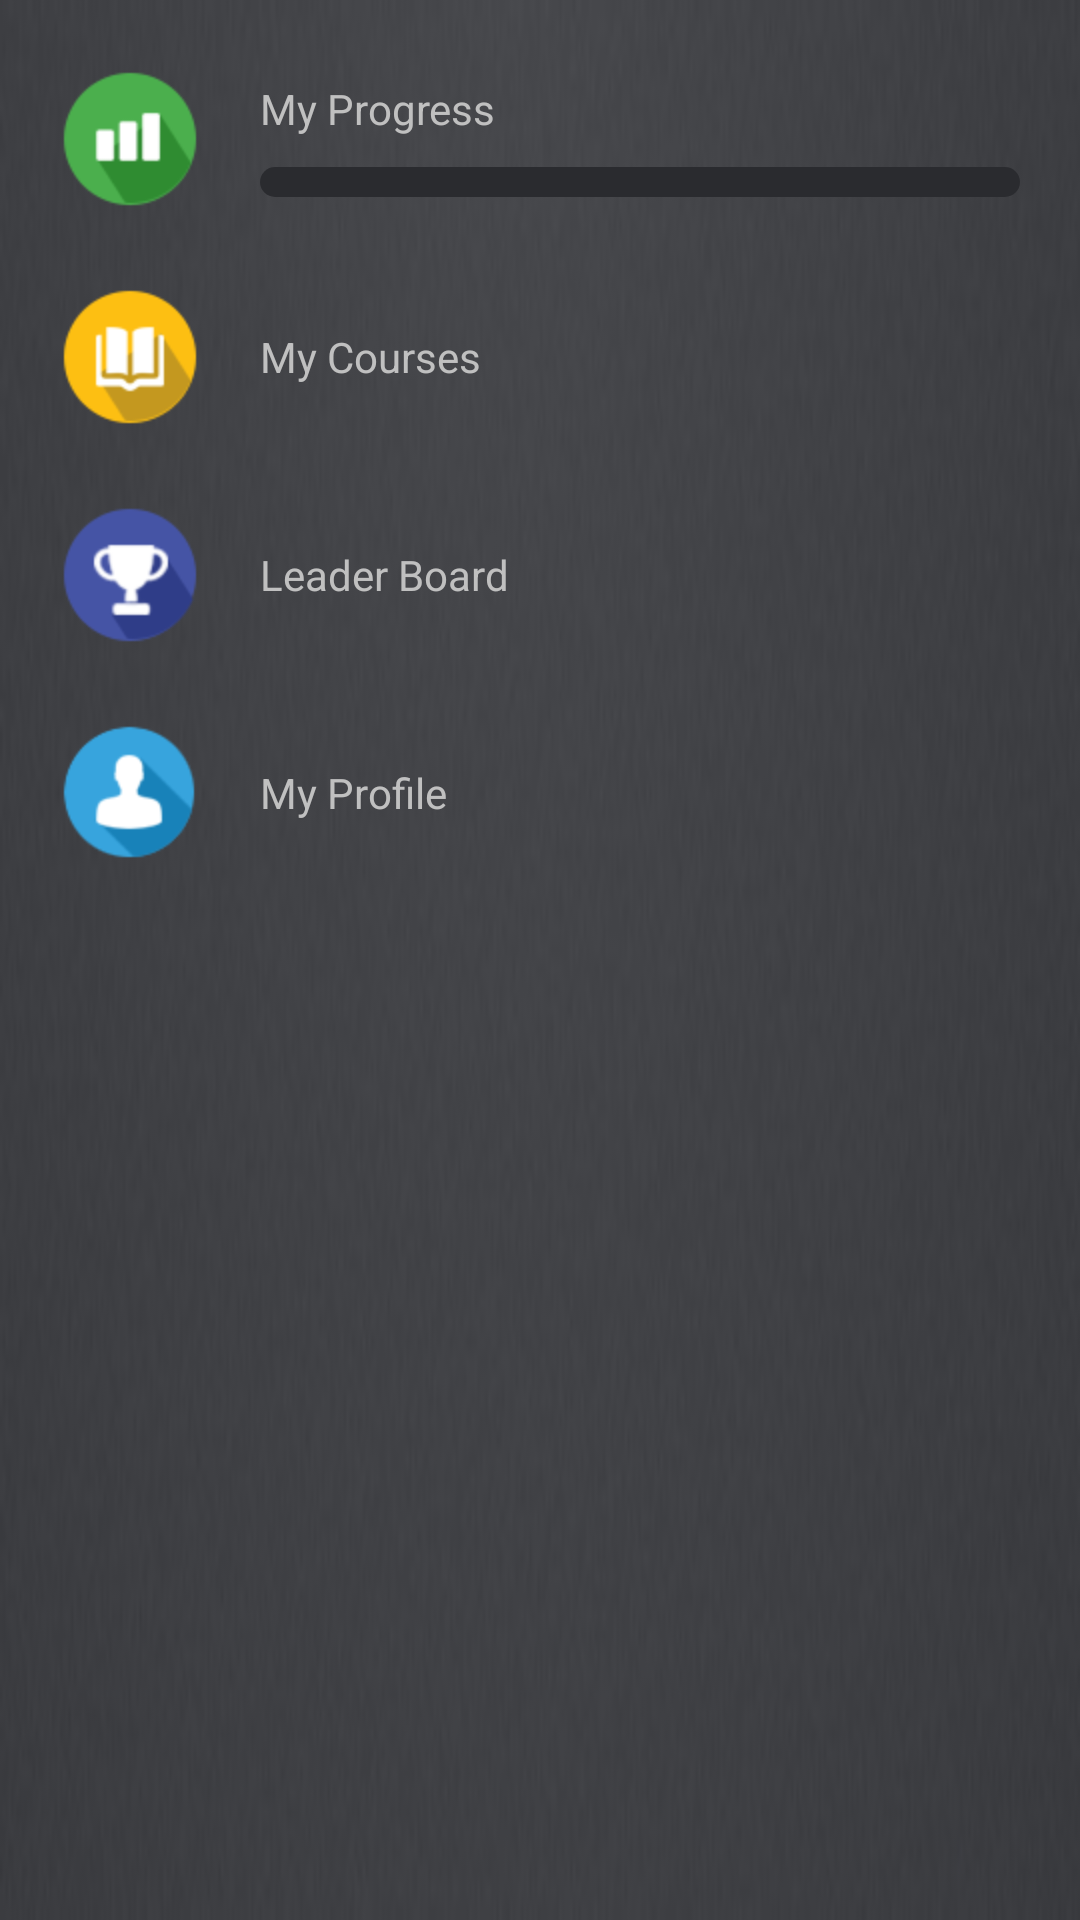

Icons on this 1080px x 1920px Android screen, each with its box as (x1, y1, x2, y2):
item course: (63, 290, 197, 424)
item profile: (63, 726, 195, 858)
item progress: (63, 72, 197, 206)
